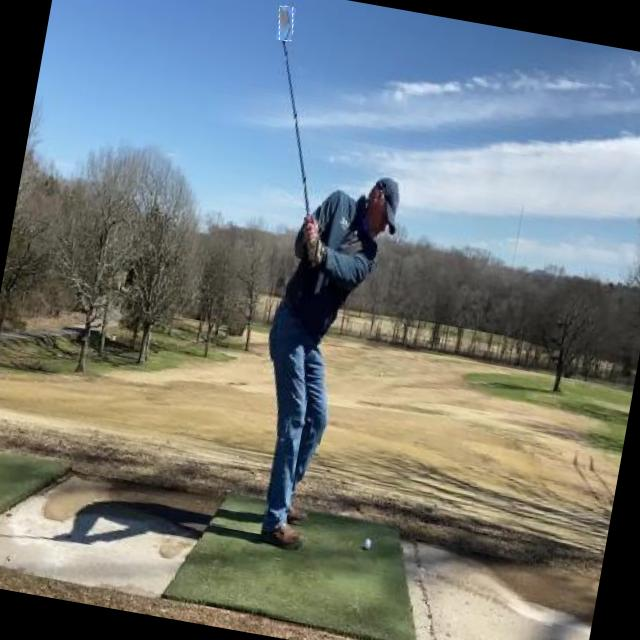club head: (275, 6, 296, 42)
